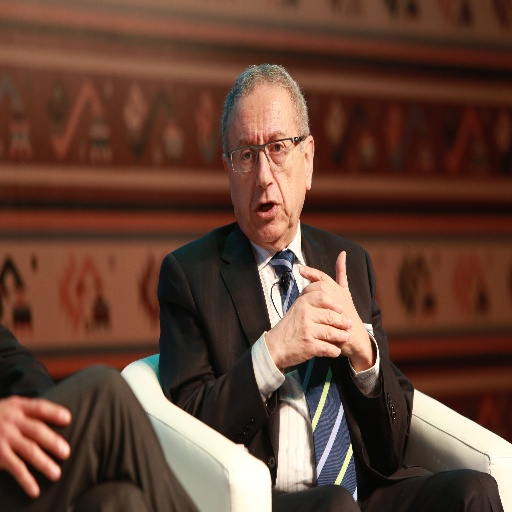hand: (0, 383, 81, 490), (298, 247, 366, 356), (270, 287, 352, 368)
